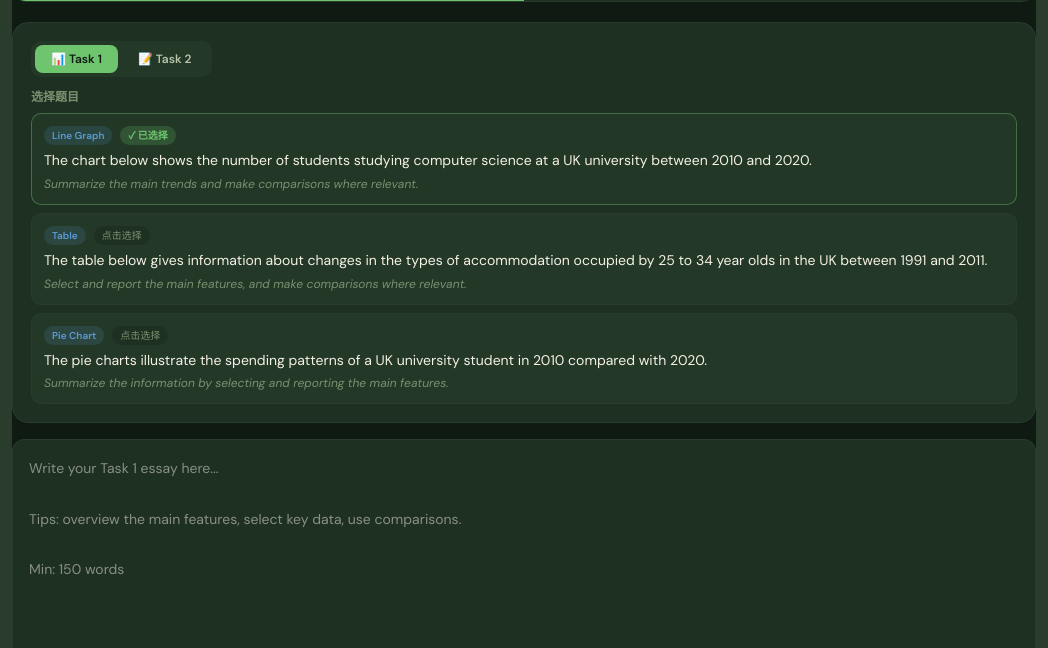
Test: Writing - Word Count › shows Task 2 min word count
This screenshot has width=1048, height=648.
Step 1. Click the button "📝 Task 2" → (165, 59), box 122,45 -> 208,73
(page scrolled)
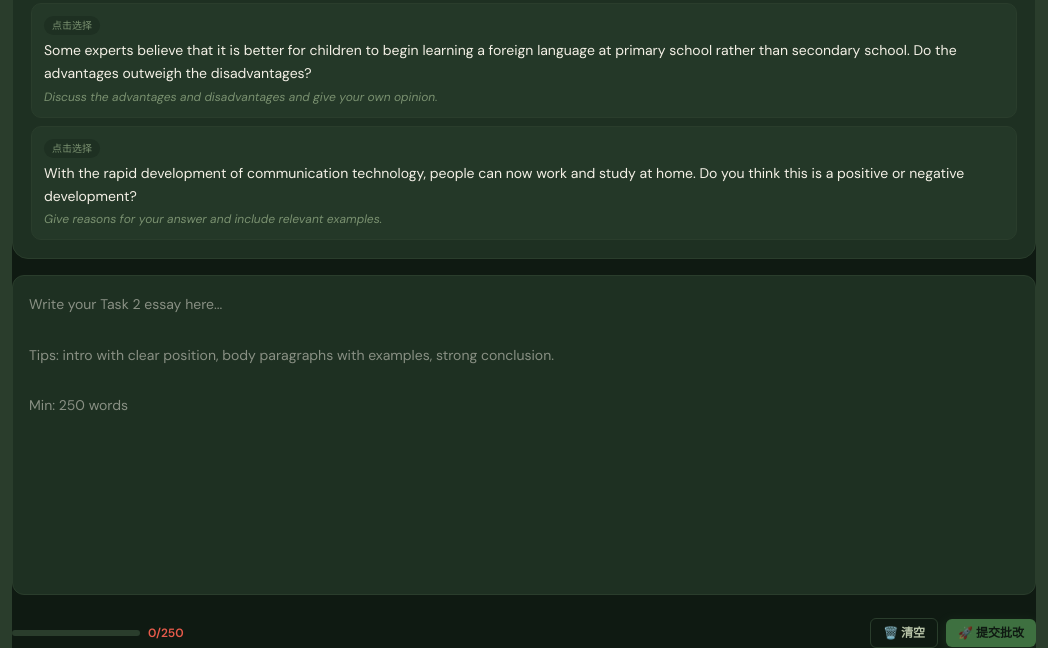
Check: the text "0/250" is shown, box 148,625 -> 184,641
